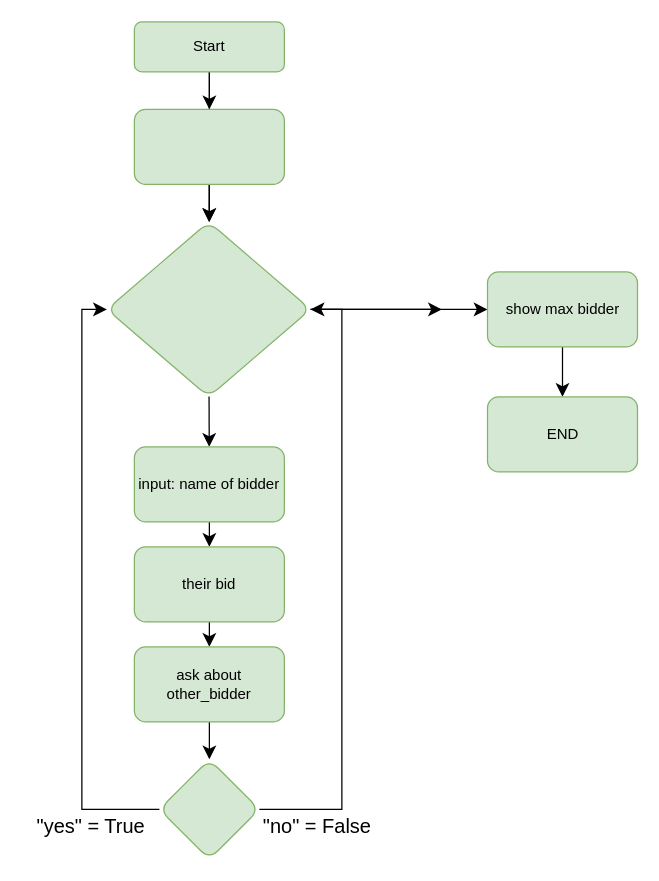
Image size: 659x881. Some labels were removed from this diagram. The centre of each missing label's shape, as x and y in pixels:
"other_bidder" belongs at pixel 208 808.
"other_bidder = True" belongs at pixel 208 146.
"while other_bidder" belongs at pixel 208 309.
